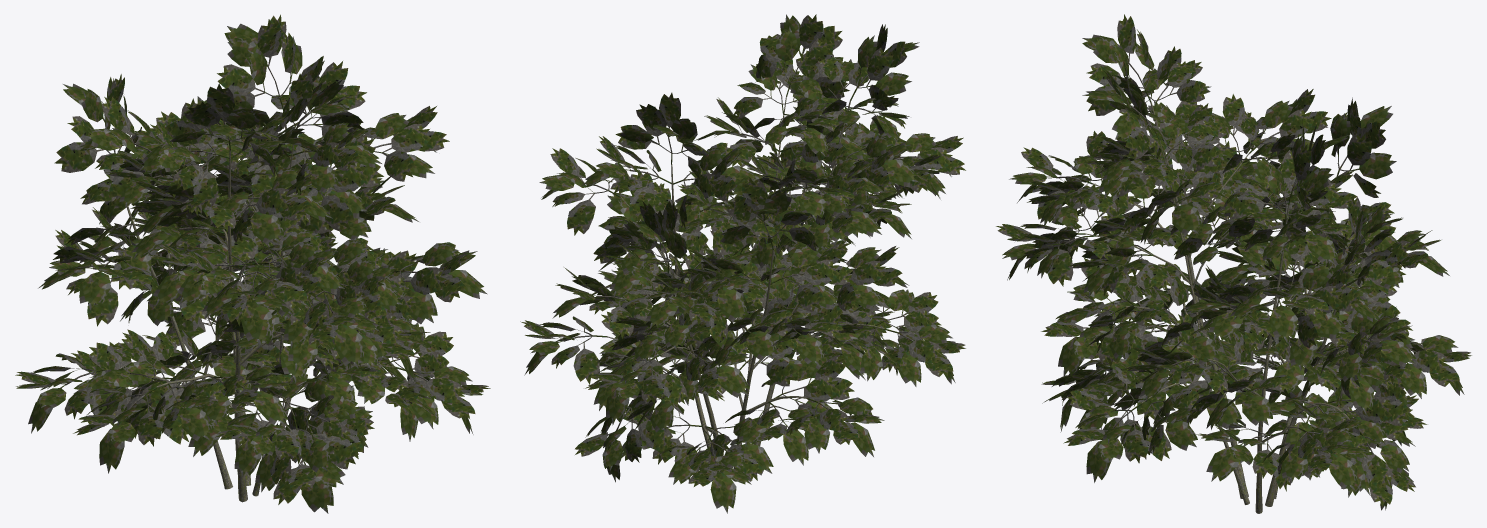
The model's file is Tree1.FBX.
The picture shows the model from 3 angles, left to right: view 1: azimuth 30°, elevation 25°; view 2: azimuth 150°, elevation 25°; view 3: azimuth 270°, elevation 25°; orthographic projection. The views are drawn at different scales.
Visible parts, largest first — view 1: SM_AshTree_ClusterC_LOD; view 2: SM_AshTree_ClusterC_LOD; view 3: SM_AshTree_ClusterC_LOD.
Part boxes in pixels (x1,y1,x2,y2): SM_AshTree_ClusterC_LOD: (15, 14, 490, 513); SM_AshTree_ClusterC_LOD: (520, 14, 965, 513); SM_AshTree_ClusterC_LOD: (996, 14, 1471, 513).
Bounding box in the file's own units: 361 × 397 × 386.
